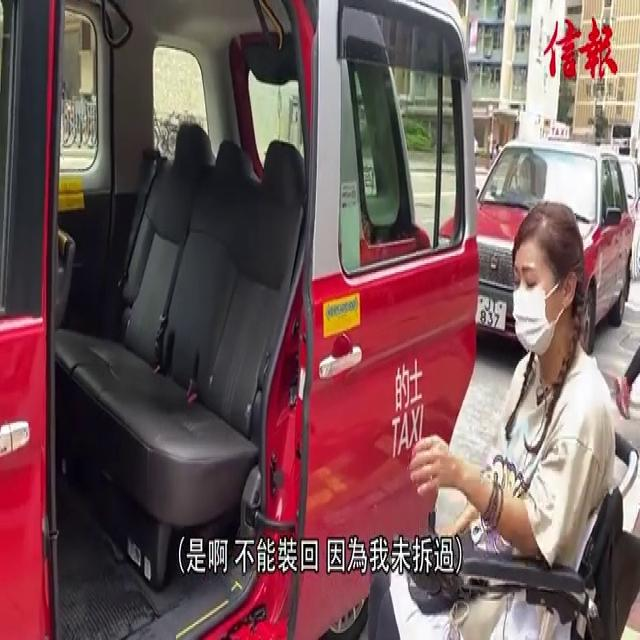wheelchairs: (419, 400, 640, 638)
